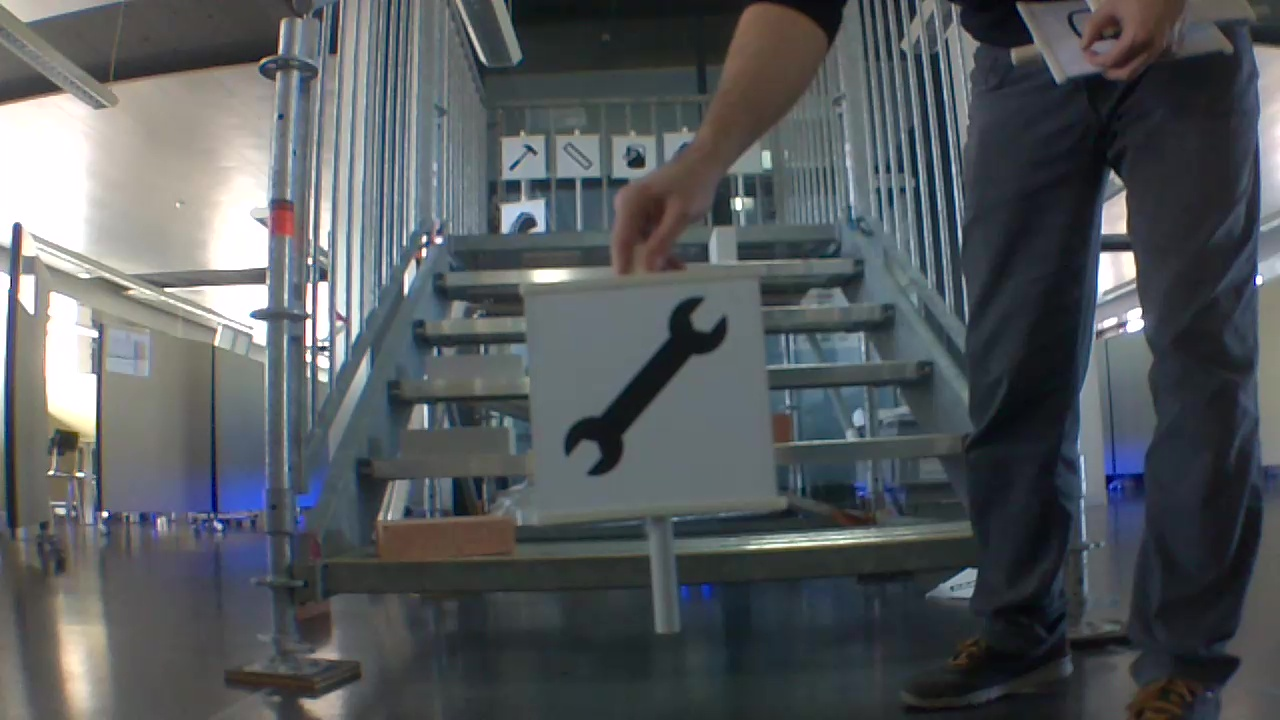brick: (372, 514, 520, 558), (402, 424, 511, 454), (419, 350, 524, 381), (706, 224, 738, 261)
bucket: (620, 139, 650, 174)
hammer: (505, 141, 537, 173)
ruler: (559, 139, 595, 172)
taco: (506, 210, 540, 234)
wrench: (563, 288, 728, 482)
